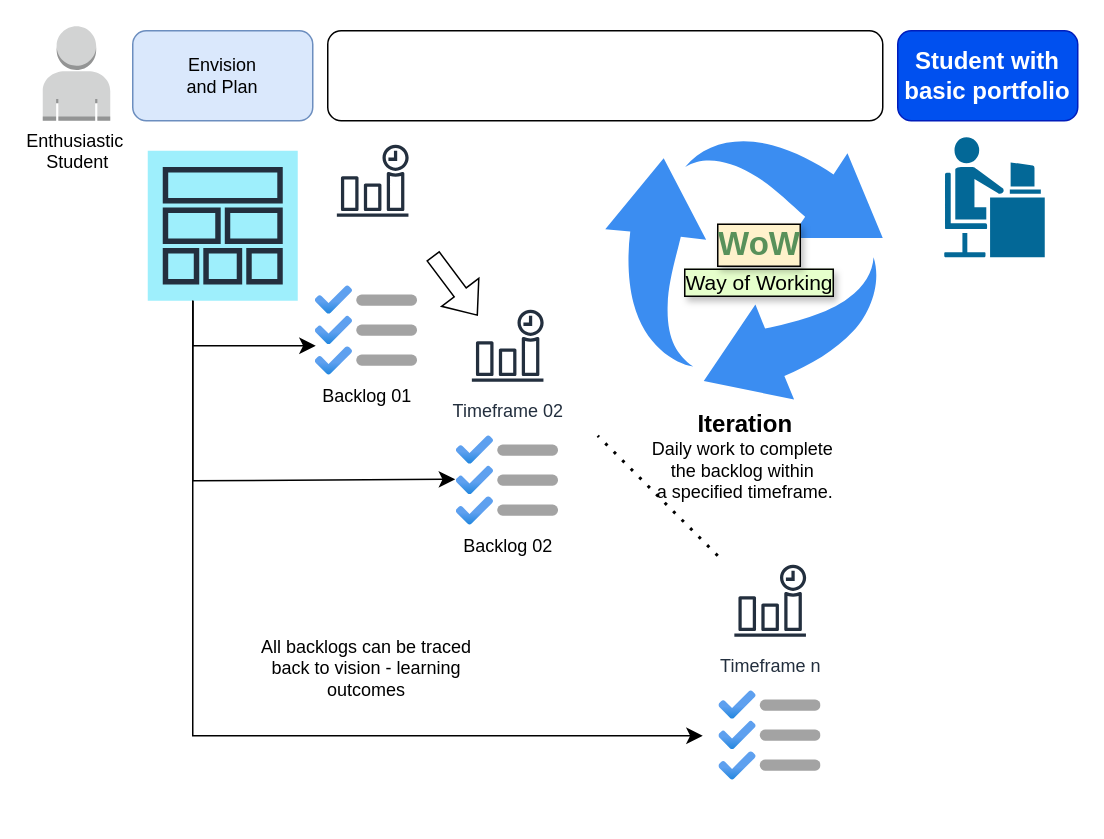
This 1104x839 diagram has some shape labels left out. The shapes that lost their labels are listed below. From the top down, each one's centre as x and y in pixels, then its label:
At point (604, 75): "Transformation Process".
At point (372, 180): "Timeframe 01".
At point (222, 225): "Learning Outcomes".
At point (769, 735): "Backlog n".
